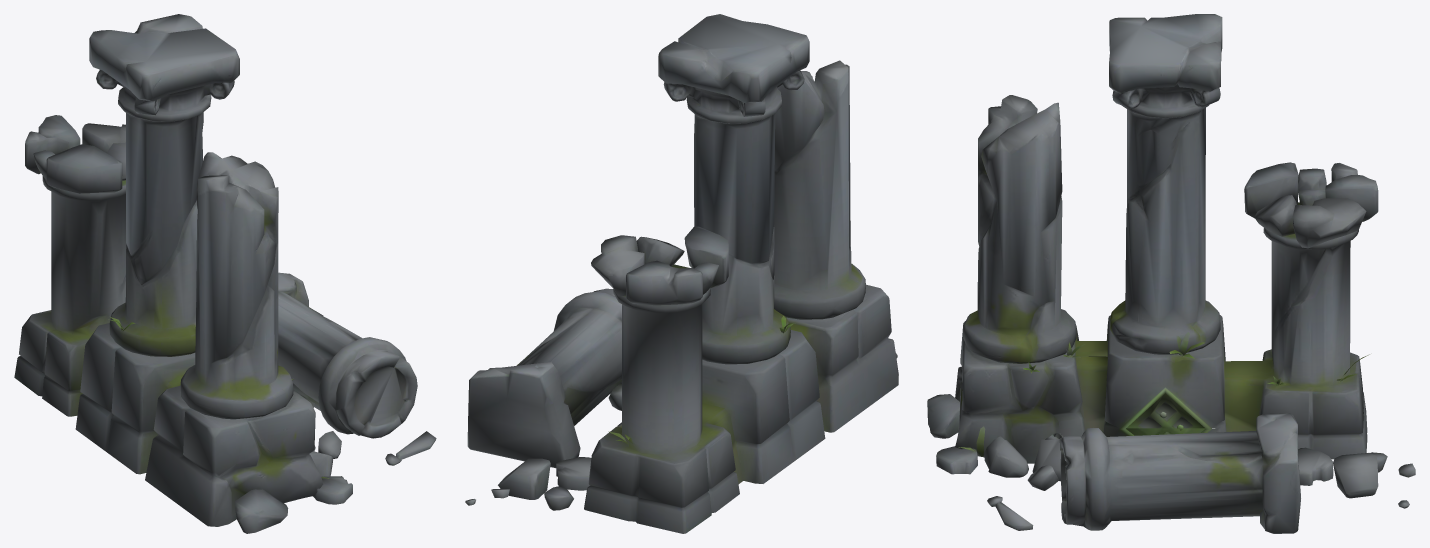
Rendered from broken_pillars.glb.
3 views of the same model, side by side, from view 1: azimuth 30°, elevation 25°; view 2: azimuth 150°, elevation 25°; view 3: azimuth 270°, elevation 25° (orthographic). The views are drawn at different scales.
Parts seen in each view (by area): view 1: tripo_node_e32c9a97-59a8-431e-a144-5dae29b9baef; view 2: tripo_node_e32c9a97-59a8-431e-a144-5dae29b9baef; view 3: tripo_node_e32c9a97-59a8-431e-a144-5dae29b9baef.
Part boxes in pixels (left/top/right/bottom): tripo_node_e32c9a97-59a8-431e-a144-5dae29b9baef: left=14, top=14, right=436, bottom=533; tripo_node_e32c9a97-59a8-431e-a144-5dae29b9baef: left=465, top=14, right=898, bottom=533; tripo_node_e32c9a97-59a8-431e-a144-5dae29b9baef: left=927, top=14, right=1415, bottom=533.
Bounding box in the file's own units: 0.6353 × 0.9058 × 0.9995.
1 material, 1 textured.
